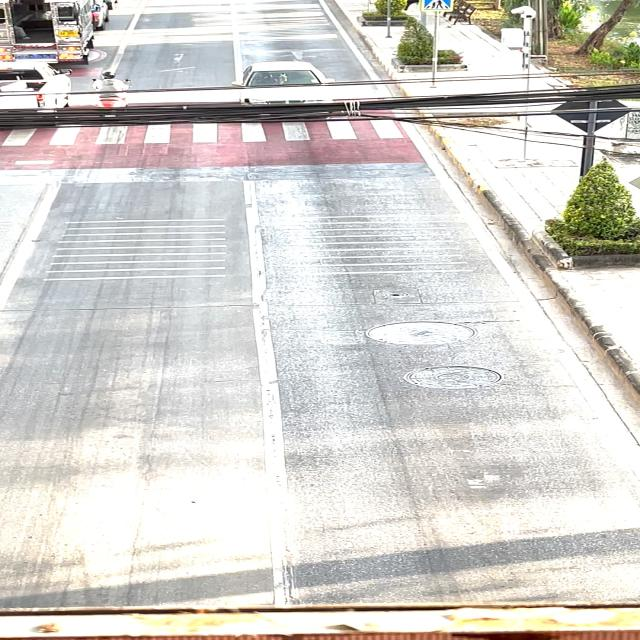car: (232, 54, 338, 113)
